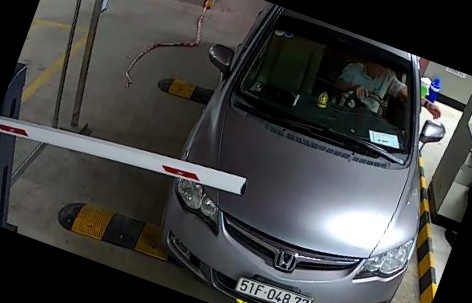plate: (229, 272, 314, 303)
